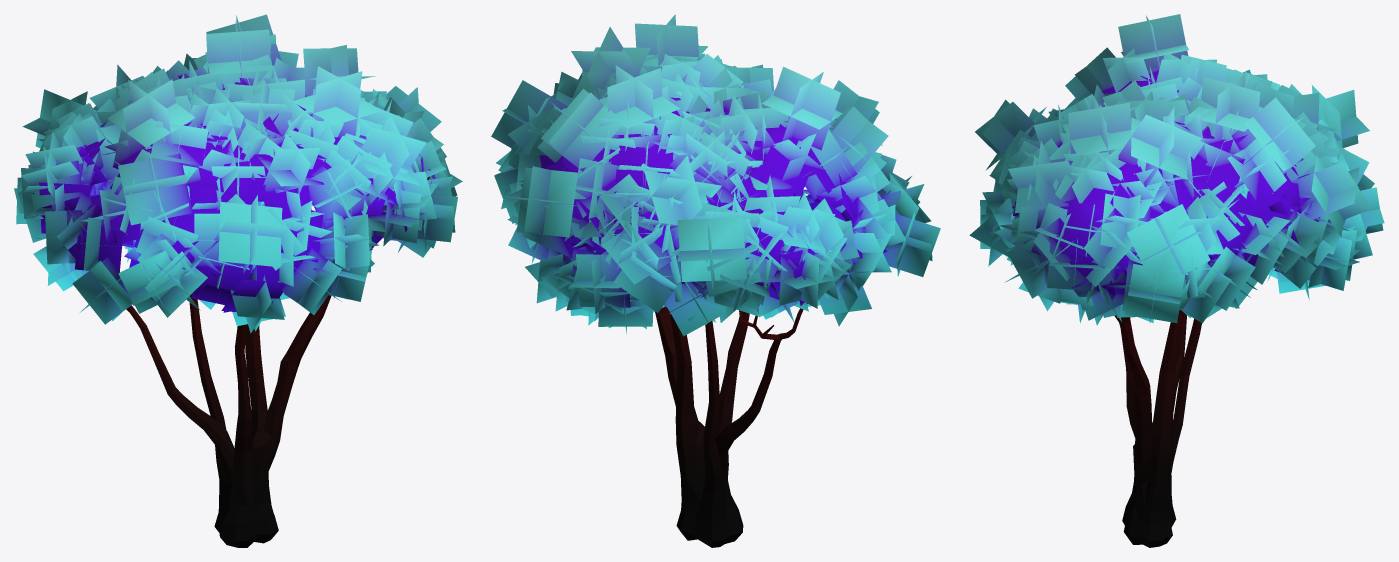
The model's file is SM_Env_Tree_Pohutukawa_03.fbx.
3 renders of one model, left to right at view 1: azimuth 30°, elevation 25°; view 2: azimuth 150°, elevation 25°; view 3: azimuth 270°, elevation 25°, orthographic. The views are drawn at different scales.
Visible parts, largest first — view 1: SM_Env_Tree_Pohutukawa_03_LOD0; view 2: SM_Env_Tree_Pohutukawa_03_LOD0; view 3: SM_Env_Tree_Pohutukawa_03_LOD0.
Part boxes in pixels (x1,y1,x2,y2): SM_Env_Tree_Pohutukawa_03_LOD0: [14, 14, 462, 547]; SM_Env_Tree_Pohutukawa_03_LOD0: [491, 14, 940, 547]; SM_Env_Tree_Pohutukawa_03_LOD0: [969, 14, 1384, 547].
Size of what is drawn, in the model's own units: 420 by 489 by 387.
